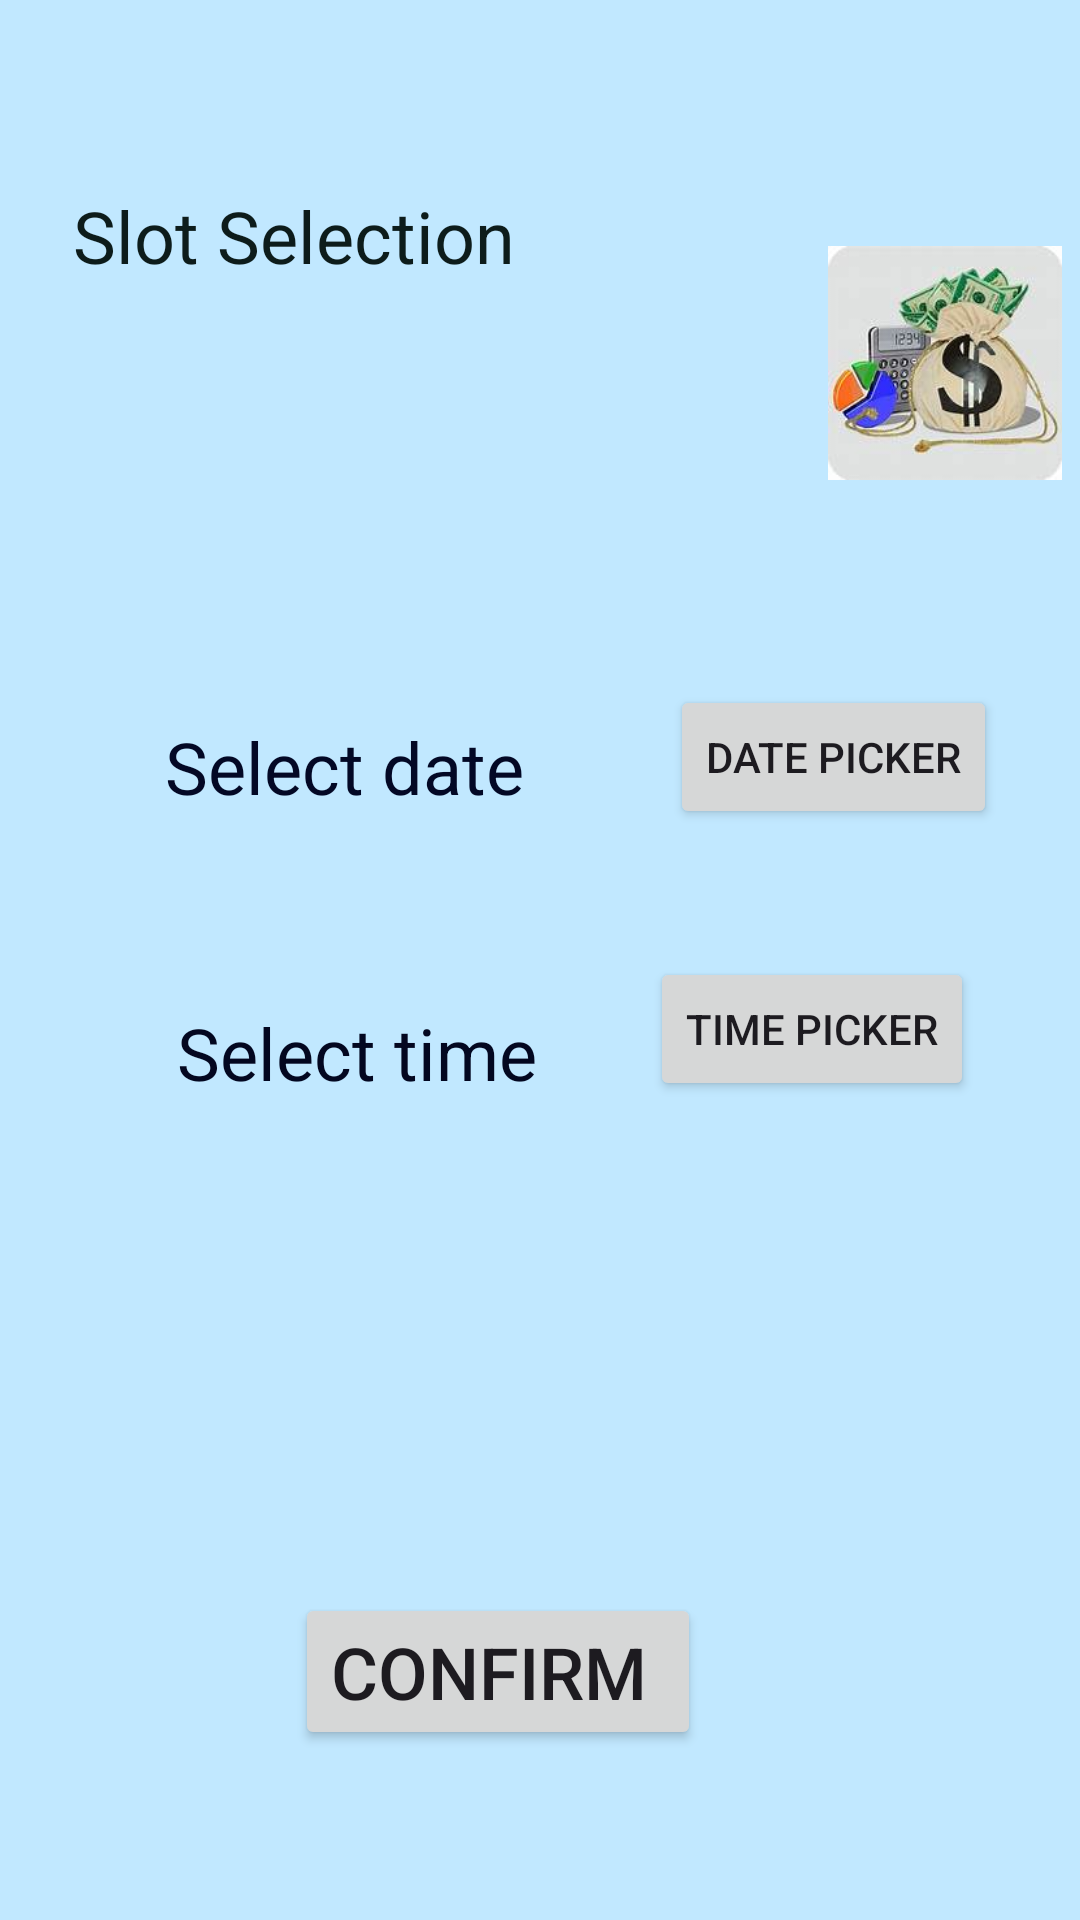

Screen size 1080 x 1920. Icon name, then its center in pixels as (x=x, y=y):
exp: (x=945, y=363)
